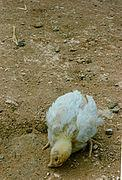AbNormal: (41, 90, 105, 167)
